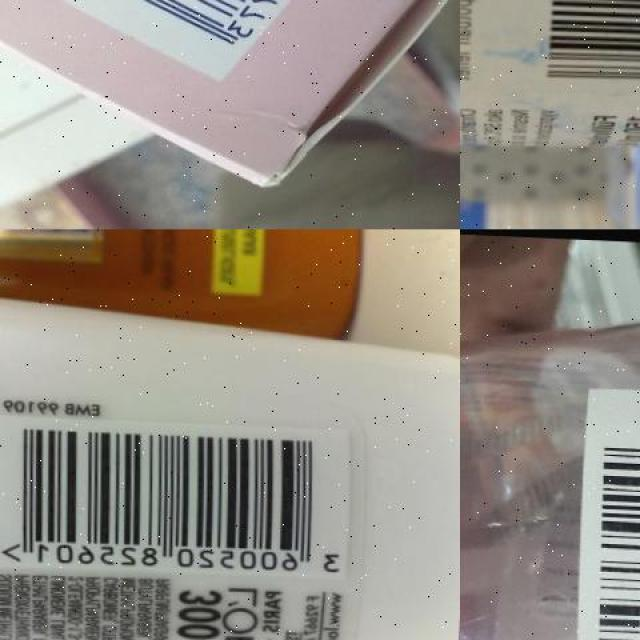Barcode: (0, 413, 349, 573), (34, 0, 437, 85), (588, 430, 640, 640), (532, 0, 640, 89)
